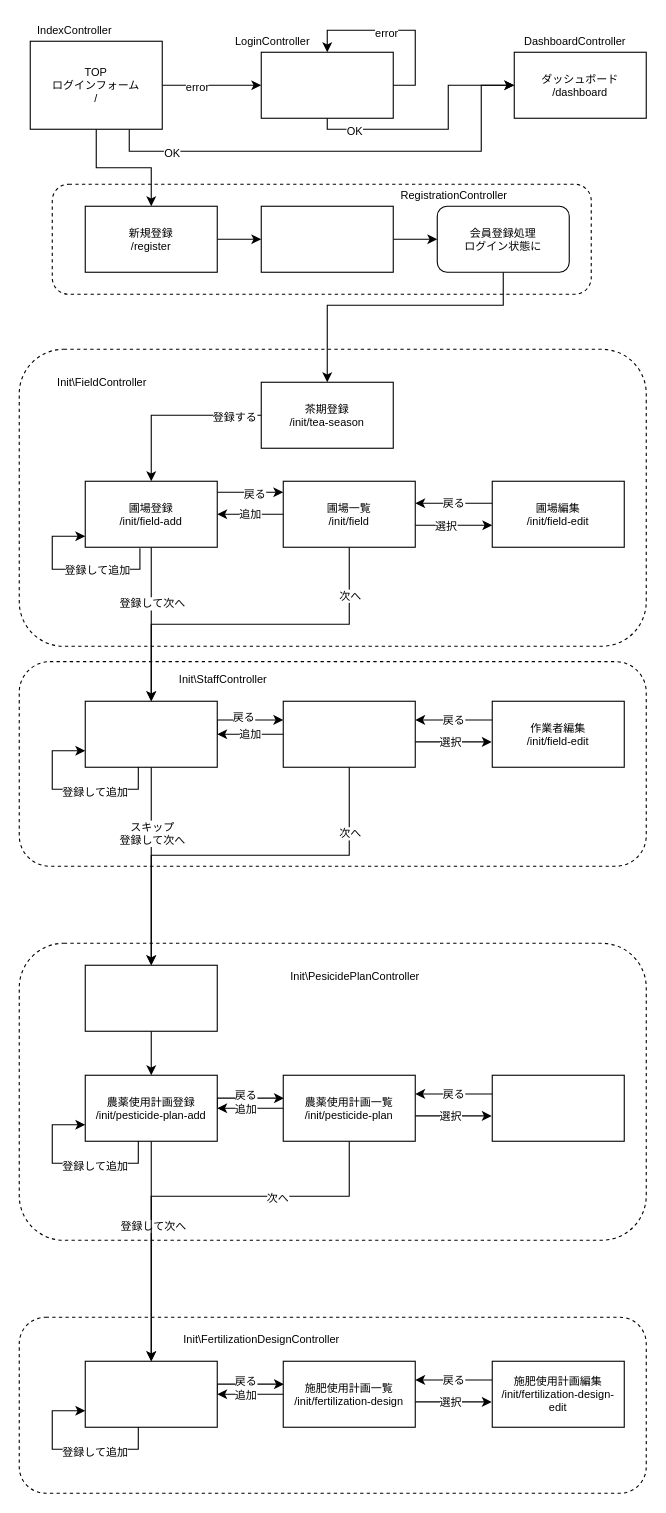
This 666x1513 diagram has some shape labels left out. Each missing label, with the box of its shape:
ログインフォーム /login: (260, 51, 393, 118)
作業者一覧 /init/staff: (282, 700, 415, 767)
作業者登録 /init/staff-add: (84, 700, 217, 767)
年度・責任者登録 /init/pesticide-plan-create: (84, 964, 217, 1031)
施肥計画登録 /init/f ertilization-design -add: (84, 1360, 217, 1427)
確認ページ /register/confirm: (260, 205, 393, 272)
農薬使用計画編集 /init/pesticide-plan-edit: (491, 1074, 624, 1141)
